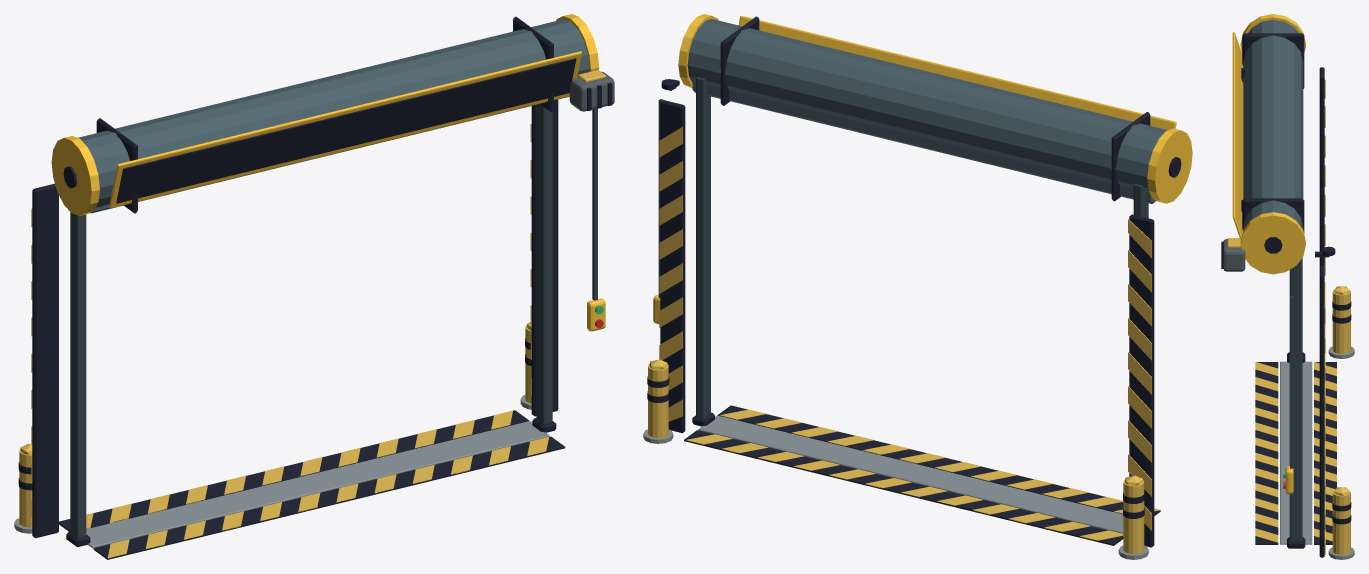
File: sm_env_depot_door_frame.glb
3 views of the same model, side by side, from view 1: azimuth 30°, elevation 25°; view 2: azimuth 150°, elevation 25°; view 3: azimuth 270°, elevation 25° (orthographic). The views are drawn at different scales.
Visible parts, largest first — view 1: DrumHousing, SignBoard, Threshold, Jamb, GuideRail, GuideRail.001, SignBoardRim, ThresholdBand.001, Jamb.001, ThresholdBand, DrumCap, ButtonConduit (+2 smaller); view 2: DrumHousing, Threshold, GuideRail.001, Jamb.001, DrumSkirt, SignBoardRim, Jamb, ThresholdBand, ThresholdBand.001, DrumCap, Bollard, Bollard.001 (+3 smaller); view 3: DrumHousing, Threshold, GuideRail.001, DrumCap.001, ThresholdBand.001, SignBoardRim, Jamb.001, ThresholdBand, Jamb, Bollard, Bollard.001, DrumBand (+20 smaller).
Part boxes in pixels (left/top/right/bottom): DrumHousing: left=78, top=19, right=589, bottom=207; SignBoard: left=116, top=58, right=576, bottom=203; Threshold: left=86, top=421, right=549, bottom=548; Jamb: left=32, top=183, right=58, bottom=538; GuideRail: left=70, top=212, right=86, bottom=537; GuideRail.001: left=536, top=104, right=552, bottom=423; SignBoardRim: left=109, top=51, right=581, bottom=208; ThresholdBand.001: left=93, top=436, right=565, bottom=559; Jamb.001: left=531, top=99, right=558, bottom=416; ThresholdBand: left=59, top=410, right=529, bottom=531; DrumCap: left=51, top=136, right=99, bottom=215; ButtonConduit: left=592, top=108, right=597, bottom=300; DrumHousing: left=687, top=19, right=1167, bottom=192; Threshold: left=698, top=415, right=1123, bottom=533; GuideRail.001: left=696, top=77, right=710, bottom=418; Jamb.001: left=660, top=100, right=685, bottom=433; DrumSkirt: left=692, top=81, right=1156, bottom=203; SignBoardRim: left=739, top=15, right=1176, bottom=130; Jamb: left=1129, top=214, right=1154, bottom=547; ThresholdBand: left=684, top=430, right=1123, bottom=545; ThresholdBand.001: left=717, top=405, right=1160, bottom=515; DrumCap: left=1147, top=128, right=1192, bottom=203; Bollard: left=1123, top=480, right=1144, bottom=553; Bollard.001: left=648, top=364, right=668, bottom=437; DrumHousing: left=1243, top=19, right=1303, bottom=229; Threshold: left=1280, top=361, right=1312, bottom=544; GuideRail.001: left=1289, top=257, right=1302, bottom=541; DrumCap.001: left=1240, top=212, right=1305, bottom=274; ThresholdBand.001: left=1255, top=362, right=1278, bottom=544; SignBoardRim: left=1232, top=32, right=1243, bottom=239; Jamb.001: left=1319, top=265, right=1324, bottom=557; ThresholdBand: left=1314, top=362, right=1336, bottom=544; Jamb: left=1319, top=67, right=1324, bottom=265; Bollard: left=1332, top=289, right=1350, bottom=353; Bollard.001: left=1332, top=490, right=1350, bottom=554; DrumBand: left=1242, top=33, right=1304, bottom=88.
Bounding box in the file's own units: 8.02 × 5.75 × 2.05.
